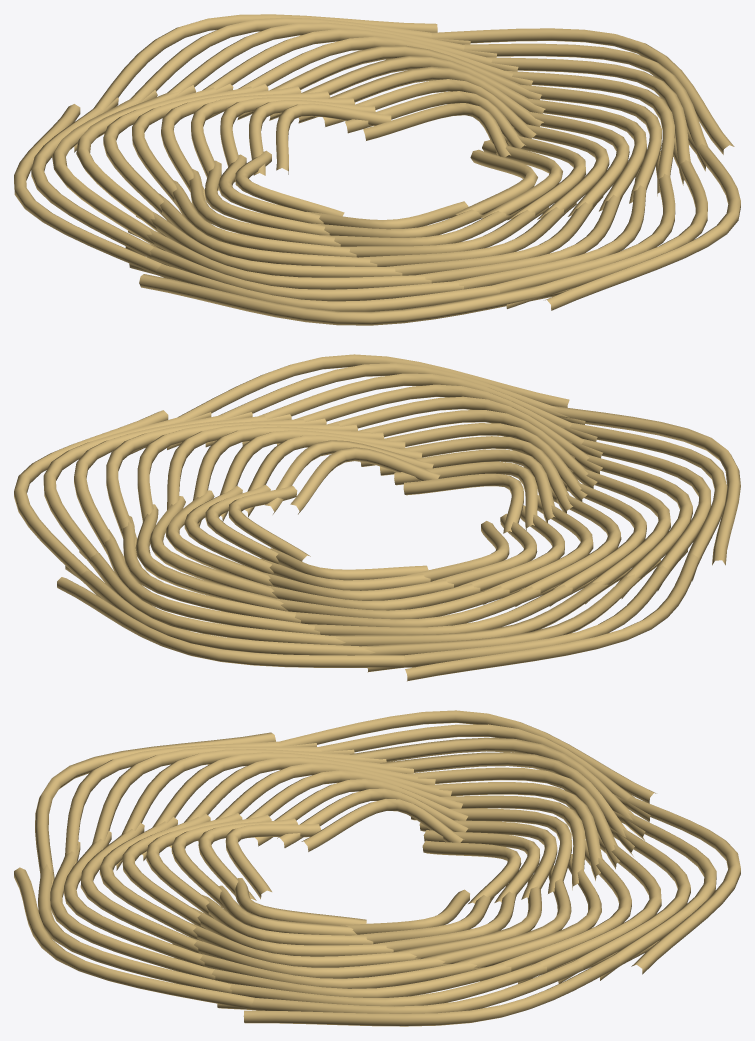
File: griffin-airmail-roost-and-posthouse-nesting-straw-bund-c22ec168__30502.glb
The picture shows the model from 3 angles, top to bottom: view 1: azimuth 30°, elevation 25°; view 2: azimuth 150°, elevation 25°; view 3: azimuth 270°, elevation 25°; orthographic projection.
Visible parts, largest first — view 1: nesting-straw-bundle; view 2: nesting-straw-bundle; view 3: nesting-straw-bundle.
Boxes of the visible parts, x1,y1,x2,y2 form: nesting-straw-bundle: [14, 14, 740, 325]; nesting-straw-bundle: [14, 354, 740, 681]; nesting-straw-bundle: [14, 710, 740, 1026].
Size of the model in its own units: 1.26 by 0.0537 by 1.26.
